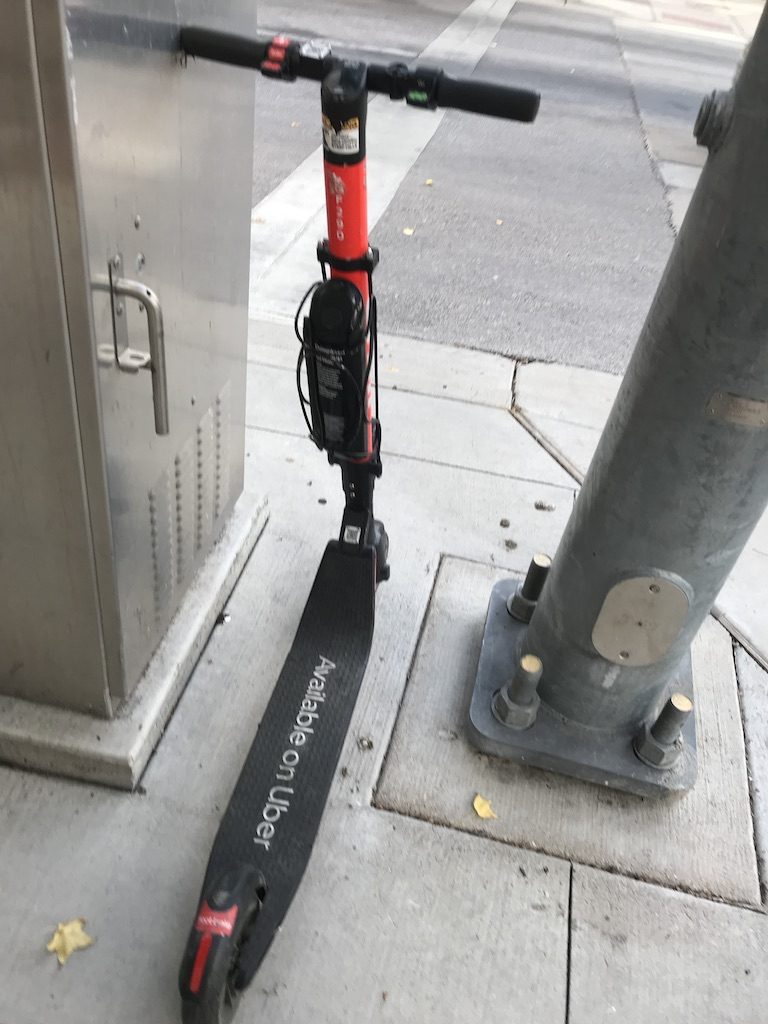scooter: (178, 25, 540, 1024)
